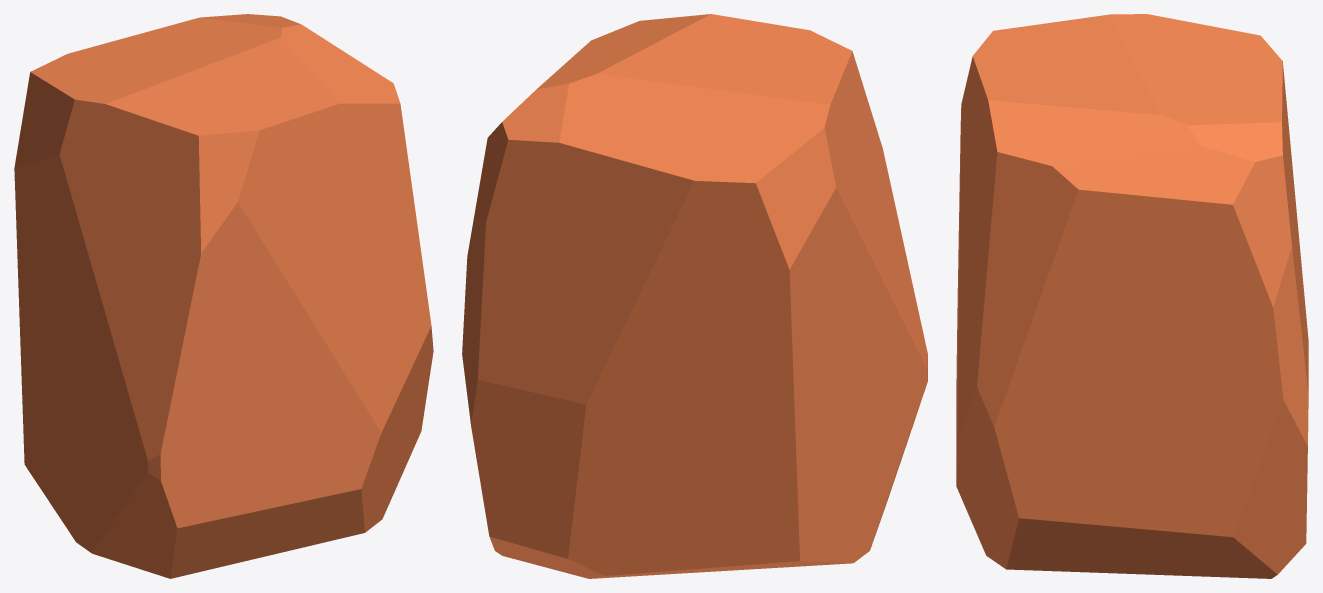
3 views of the same model, side by side, from view 1: azimuth 30°, elevation 25°; view 2: azimuth 150°, elevation 25°; view 3: azimuth 270°, elevation 25° (orthographic). The views are drawn at different scales.
Parts seen in each view (by area): view 1: Rock_6; view 2: Rock_6; view 3: Rock_6.
Boxes of the visible parts, x1,y1,x2,y2 form: Rock_6: (14,14,433,578); Rock_6: (462,14,927,578); Rock_6: (956,14,1308,578).
Size of the model in its own units: 504 by 710 by 507.
